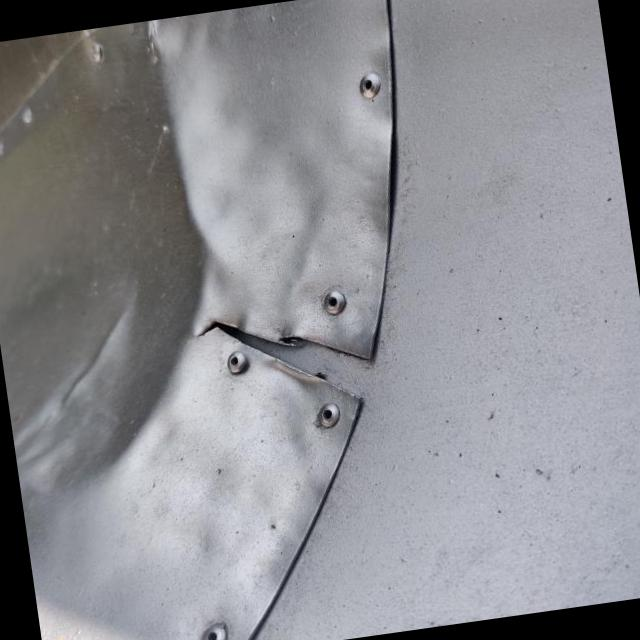Crack: (209, 324, 371, 398)
Dent: (0, 21, 201, 489)
